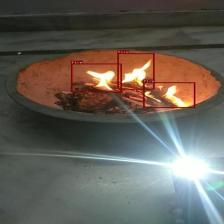fire: (70, 63, 122, 92), (143, 82, 195, 108), (118, 53, 154, 89)
